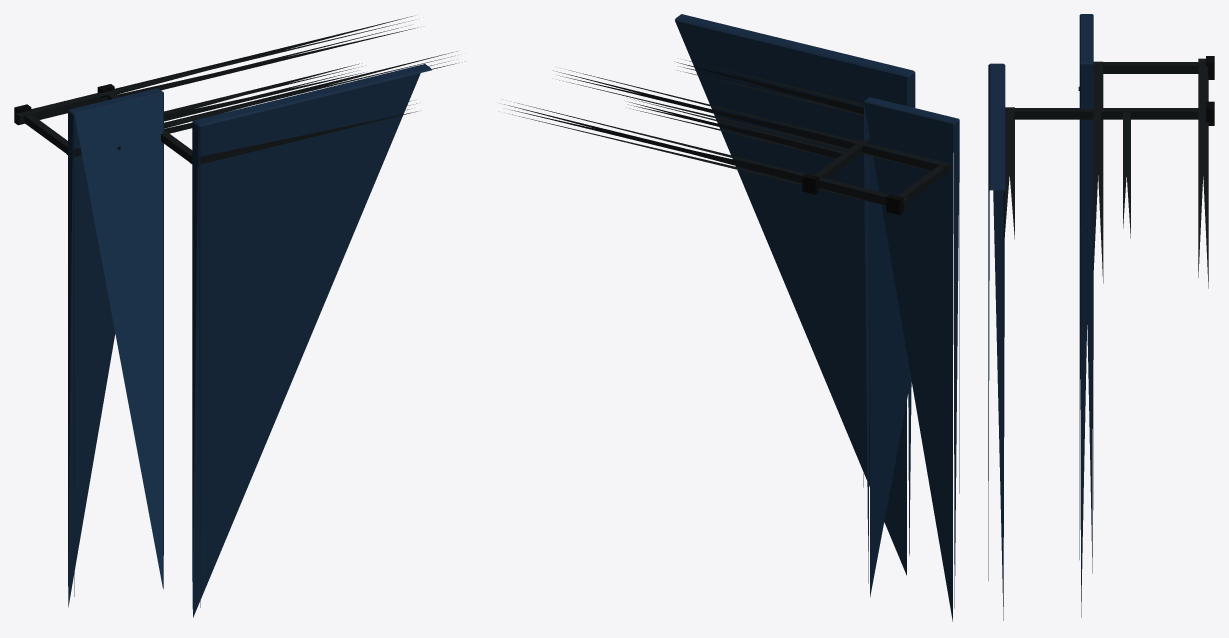
3 renders of one model, left to right at view 1: azimuth 30°, elevation 25°; view 2: azimuth 150°, elevation 25°; view 3: azimuth 270°, elevation 25°, orthographic. The views are drawn at different scales.
Size of the model in its own units: 1.7 by 2 by 0.73.
